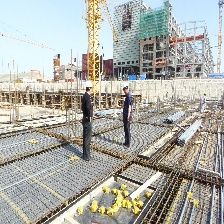helmet: (85, 80, 93, 88), (122, 82, 129, 90)
no-vest: (81, 92, 94, 118), (123, 92, 133, 118)
person: (81, 80, 95, 162), (121, 81, 133, 149)
